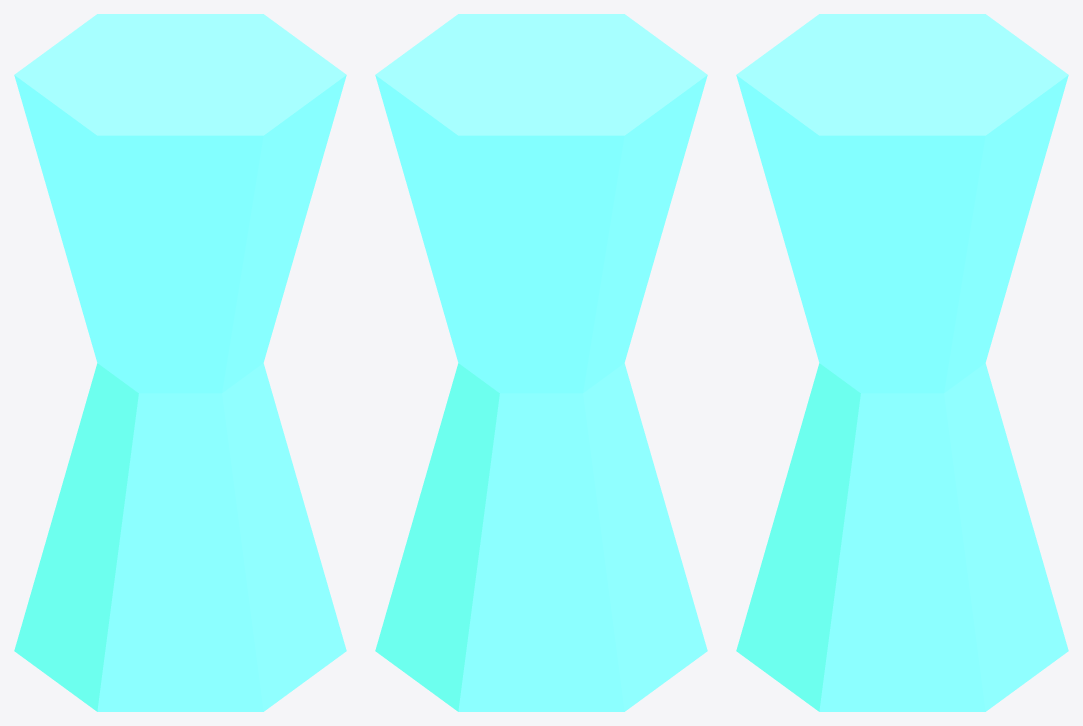
Rendered from energy_crystal.glb.
3 renders of one model, left to right at view 1: azimuth 30°, elevation 25°; view 2: azimuth 150°, elevation 25°; view 3: azimuth 270°, elevation 25°, orthographic.
Visible parts, largest first — view 1: energy_crystal; view 2: energy_crystal; view 3: energy_crystal.
Boxes of the visible parts, bbox=[...] form: energy_crystal: bbox=[14, 14, 346, 711]; energy_crystal: bbox=[375, 14, 707, 711]; energy_crystal: bbox=[736, 14, 1068, 711].
Size of the model in its own units: 0.5889 by 1.3 by 0.68.
